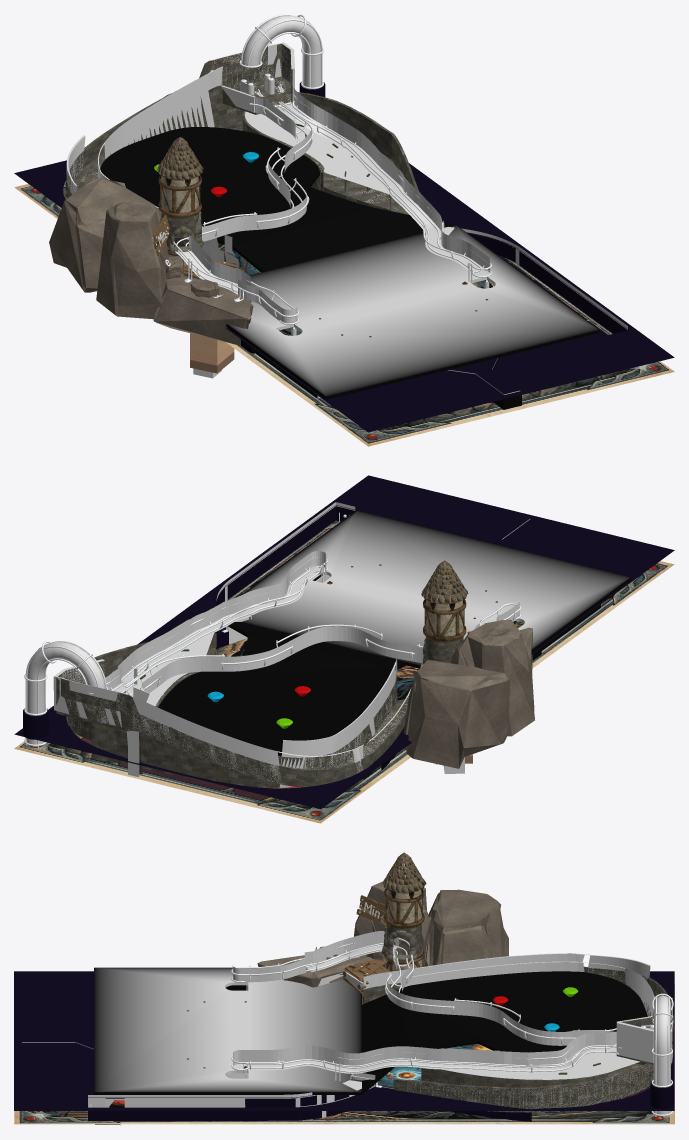
The model's file is PinballMVP_Base-transformed.glb.
3 views of the same model, one above another, from view 1: azimuth 30°, elevation 25°; view 2: azimuth 150°, elevation 25°; view 3: azimuth 270°, elevation 25° (orthographic). The views are drawn at different scales.
Parts seen in each view (by area): view 1: coll_glass_panel.001, visual_standard, visual_mine, visual_playfield_left_hole, coll_ramp_back_test, visual_ramp_back_test.001, coll_visual_habit_right_9_top, coll_visual_habit_right_left_9_top.002, visual_faquir, coll_faquir_glass_panel.001, coll_habit_vuk, visual_habit_right_left_9_top.002 (+9 smaller); view 2: coll_glass_panel.001, visual_standard, visual_mine, visual_ramp_back_test.001, coll_ramp_back_test, visual_playfield_left_hole, coll_visual_habit_right_9_top, coll_visual_habit_right_left_9_top.002, coll_habit_vuk, visual_sidewalls.001, visual_habit_right_9_top, visual_faquir (+9 smaller); view 3: coll_glass_panel.001, visual_standard, visual_mine, visual_playfield_left_hole, coll_visual_habit_right_9_top, visual_faquir, coll_ramp_back_test, coll_visual_habit_right_left_9_top.002, visual_sidewalls.001, visual_habit_right_9_top, coll_left_hole_sidewalls, coll_faquir_glass_panel.001 (+11 smaller).
Boxes of the visible parts, x1,y1,x2,y2 form: coll_glass_panel.001: (100,127,599,399); visual_standard: (14,160,674,432); visual_mine: (49,178,253,345); visual_playfield_left_hole: (14,180,674,446); coll_ramp_back_test: (66,42,294,268); visual_ramp_back_test.001: (66,44,292,261); coll_visual_habit_right_9_top: (276,88,490,272); coll_visual_habit_right_left_9_top.002: (175,97,311,323); visual_faquir: (242,92,419,214); coll_faquir_glass_panel.001: (244,109,388,193); coll_habit_vuk: (242,15,321,89); visual_habit_right_left_9_top.002: (173,101,313,324); coll_glass_panel.001: (158,510,631,756); visual_standard: (14,475,674,809); visual_mine: (403,619,534,768); visual_ramp_back_test.001: (56,660,408,787); coll_ramp_back_test: (53,658,422,787); visual_playfield_left_hole: (14,520,674,823); coll_visual_habit_right_9_top: (105,551,326,693); coll_visual_habit_right_left_9_top.002: (141,602,519,693); coll_habit_vuk: (26,641,105,744); visual_sidewalls.001: (215,506,354,648); visual_habit_right_9_top: (106,557,327,693); visual_faquir: (66,633,217,760); coll_glass_panel.001: (94,967,647,1094); visual_standard: (14,971,674,1110); visual_mine: (257,880,508,1003); visual_playfield_left_hole: (14,985,674,1124); coll_visual_habit_right_9_top: (233,1032,616,1073); visual_faquir: (393,1061,653,1112); coll_ramp_back_test: (363,953,673,1063); coll_visual_habit_right_left_9_top.002: (232,931,615,1045); visual_sidewalls.001: (88,1095,531,1121); visual_habit_right_9_top: (231,1044,621,1081); coll_left_hole_sidewalls: (22,1042,393,1117); coll_faquir_glass_panel.001: (441,1050,639,1079).
Size of what is drawn, in the model's own units: 36.29 by 21.1 by 60.3.
Materials: 19 (18 with a texture image).
